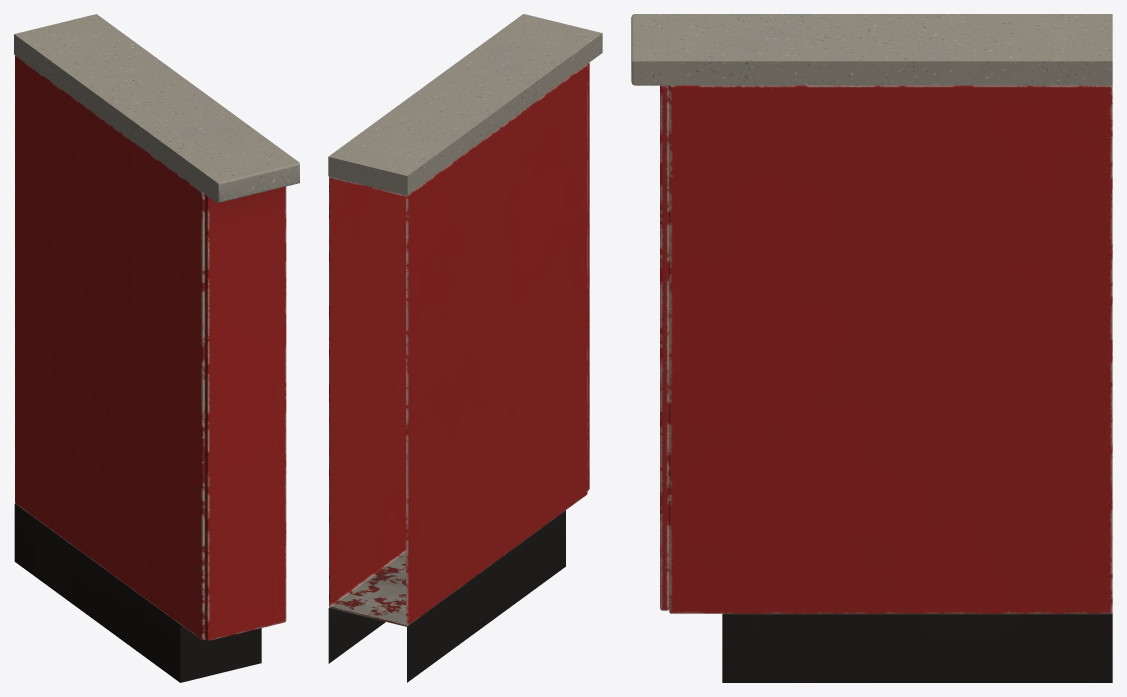
File: kit_base_filler_15_red.glb
3 renders of one model, left to right at view 1: azimuth 30°, elevation 25°; view 2: azimuth 150°, elevation 25°; view 3: azimuth 270°, elevation 25°, orthographic. The views are drawn at different scales.
Parts seen in each view (by area): view 1: kit_base_filler_15_red; view 2: kit_base_filler_15_red; view 3: kit_base_filler_15_red.
Part boxes in pixels (x1,y1,x2,y2): kit_base_filler_15_red: (14, 14, 299, 682); kit_base_filler_15_red: (328, 14, 602, 682); kit_base_filler_15_red: (631, 14, 1112, 682).
Bounding box in the file's own units: 0.148 × 0.905 × 0.635.
Materials: 1 (1 with a texture image).
